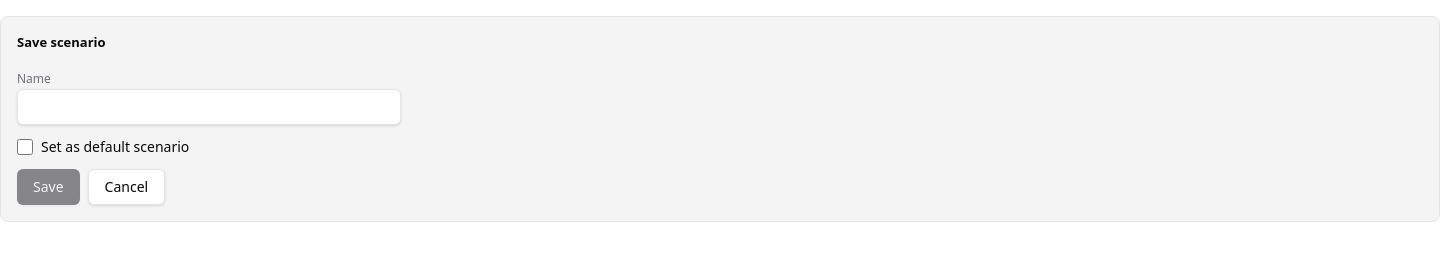
Test case: ScenarioSavePanel › surfaces the backend error when saving fails
The image size is (1440, 267).
In the field labelled "Name": (209, 106) 17,88 -> 401,124, type "Duplicate"
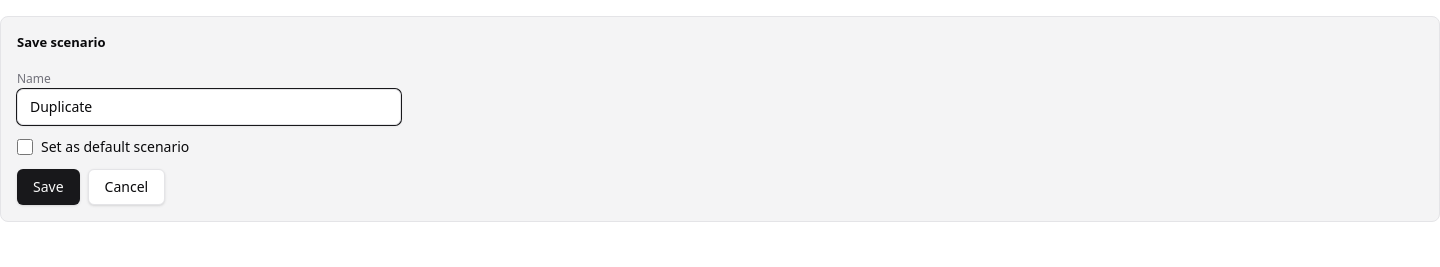
Click the button "Save": (48, 186) 17,168 -> 80,204
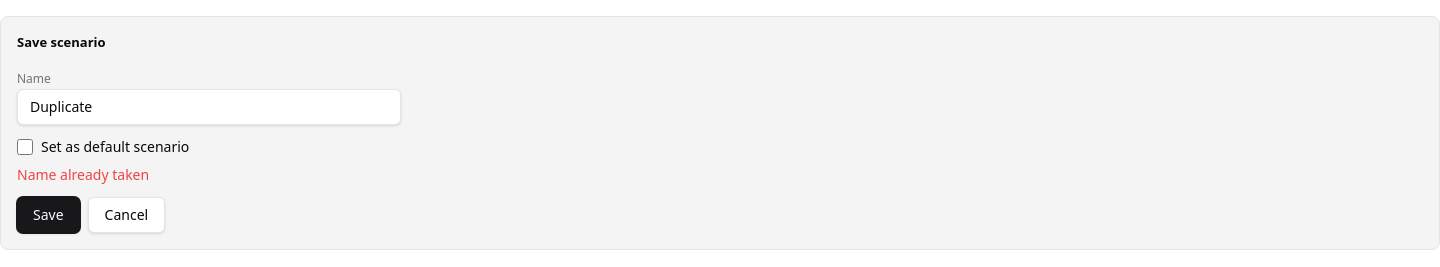
Expected: the text "Name already taken" is shown, 17,164 -> 149,184
